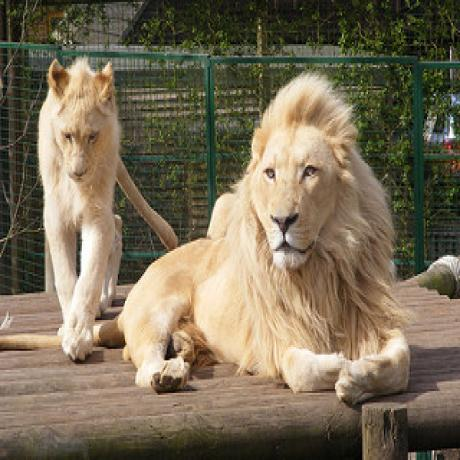Lion: (122, 78, 415, 400), (37, 59, 120, 362)
